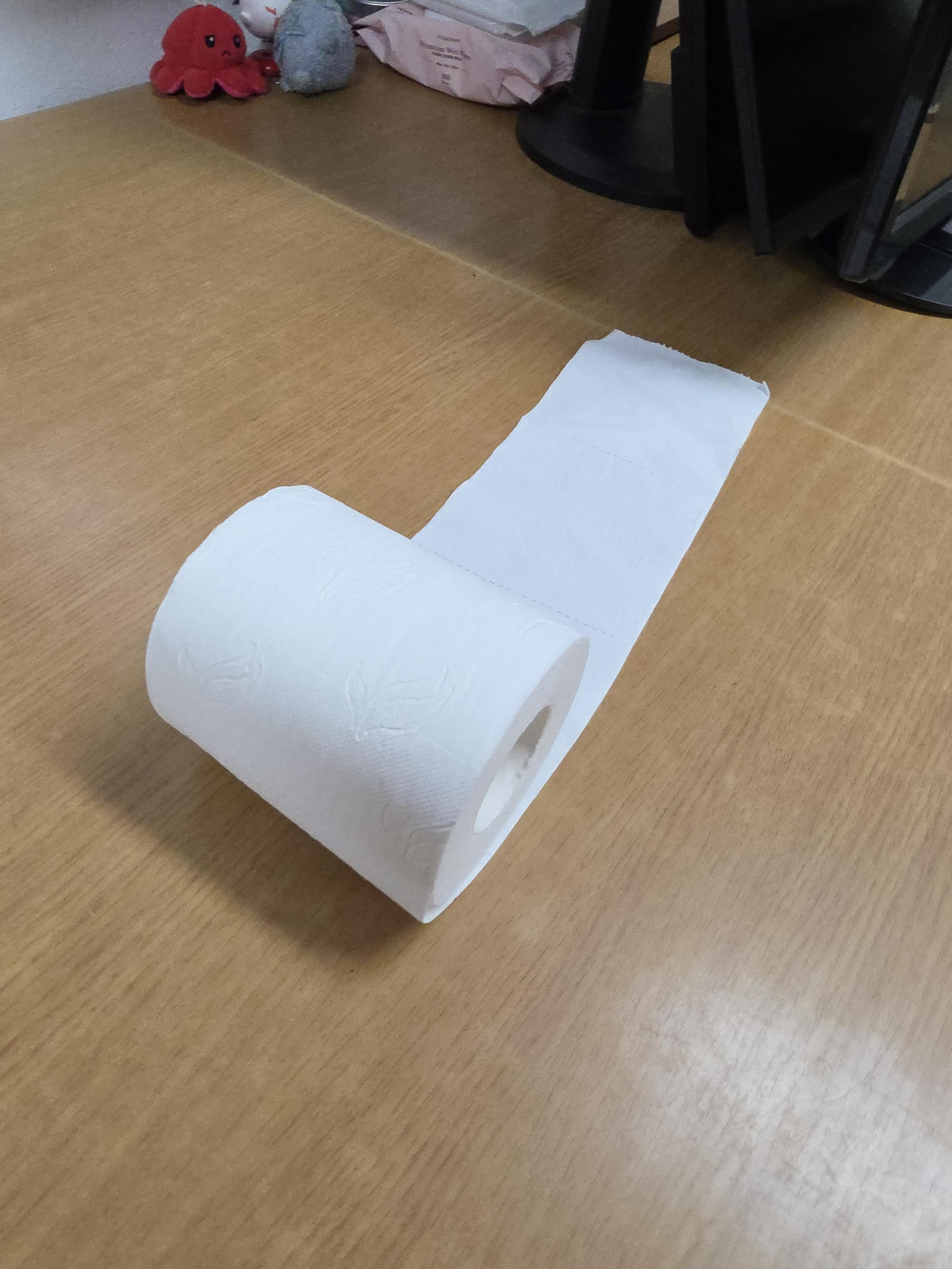tissue: (144, 330, 770, 924)
